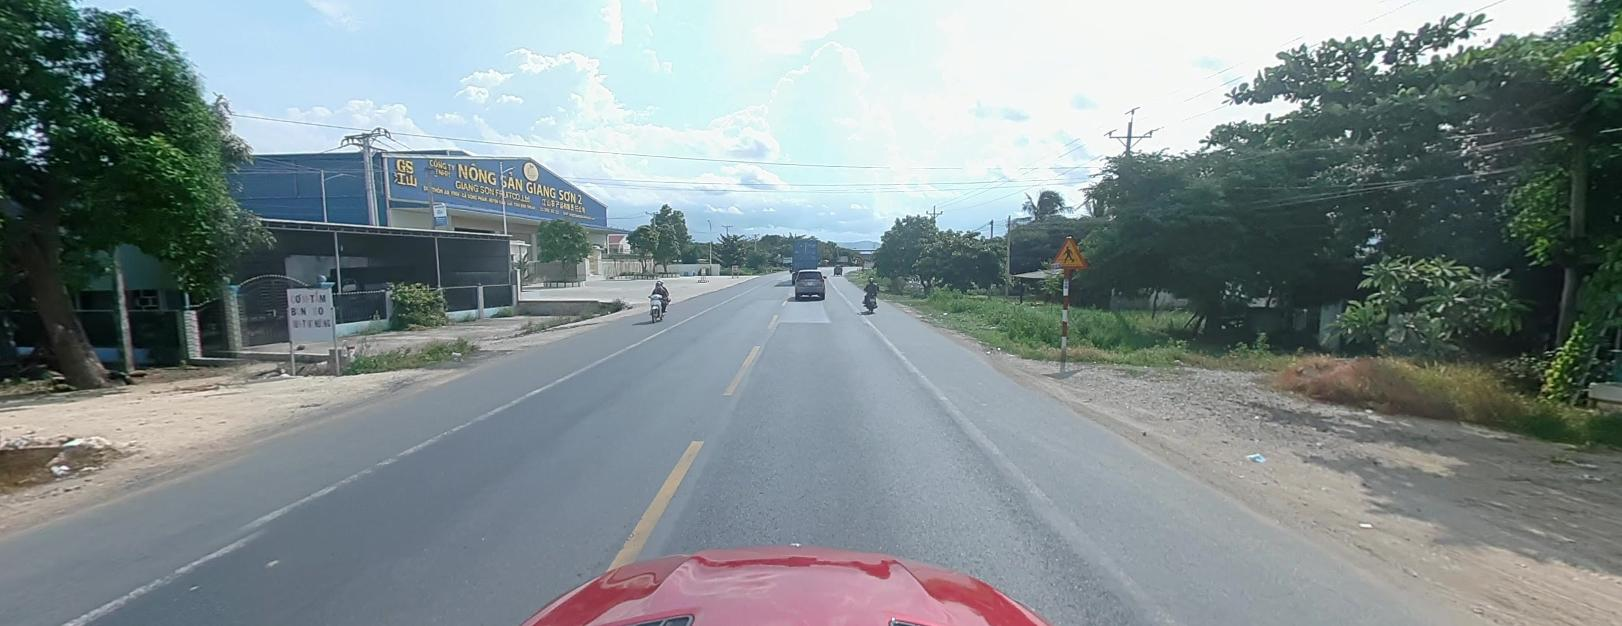Nguy hiem: (1049, 233, 1089, 271), (1048, 231, 1088, 268), (1048, 234, 1086, 268), (1050, 234, 1088, 267), (1051, 236, 1087, 267)
